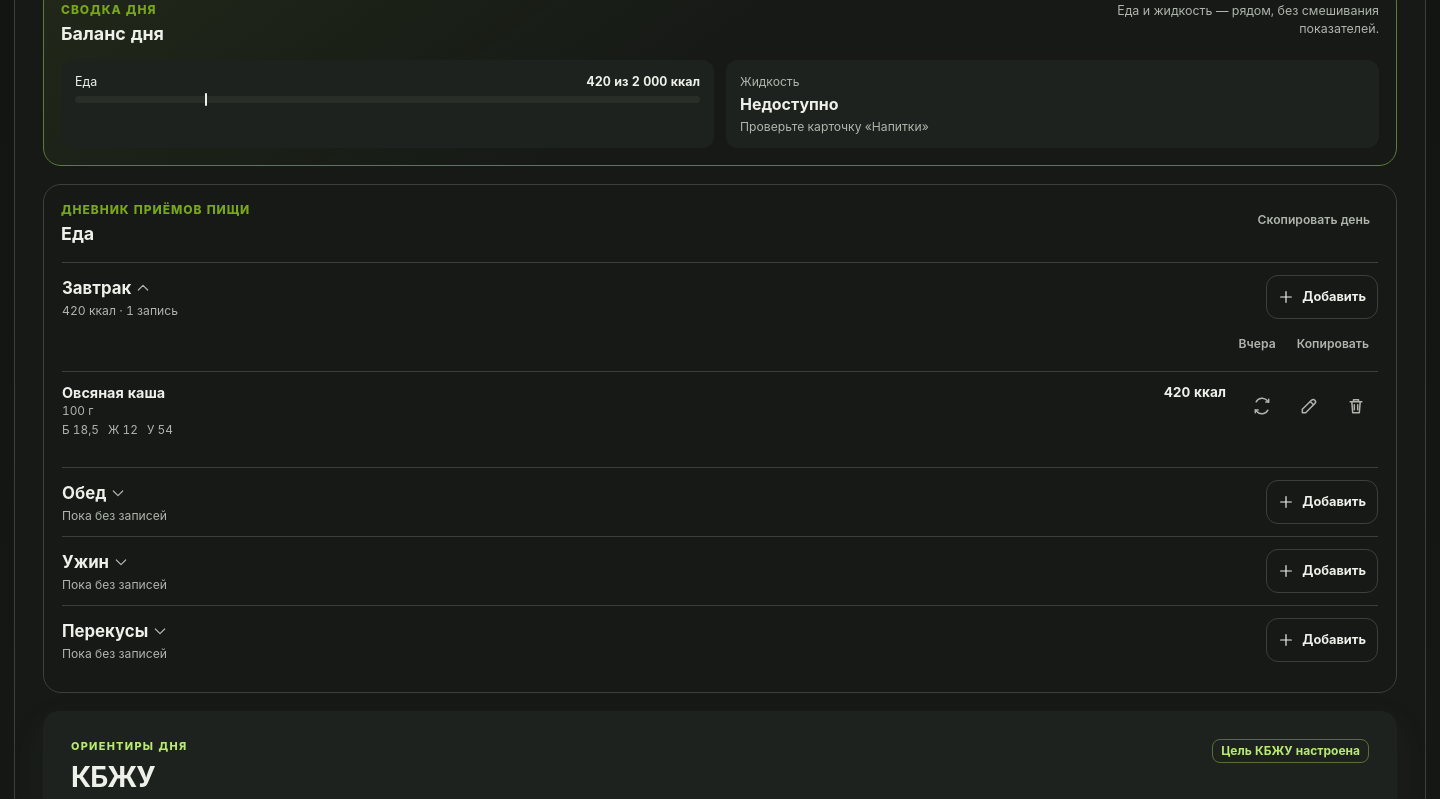
Test case: NutritionDiary › keeps an unsaved entry edit when another product is added to the meal
(page scrolled)
Check: the text "Овсяная каша" is shown, box [62,384,165,401]
Click the button named "Изменить Овсяная каша": (1309, 406) [1287,384,1331,428]
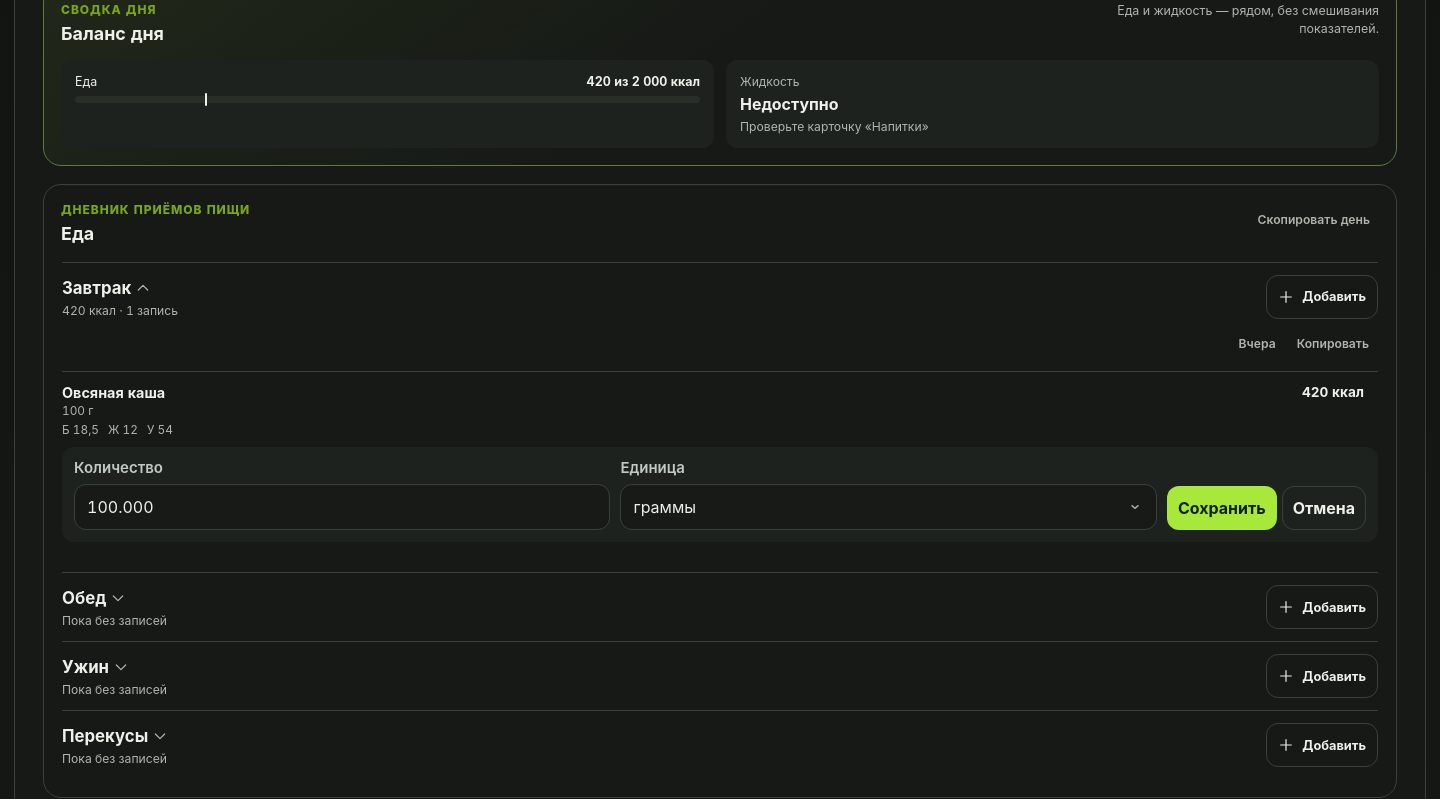
Replace the text in the number field labelled "Количество" with "175": (342, 507) [74,484,610,530]
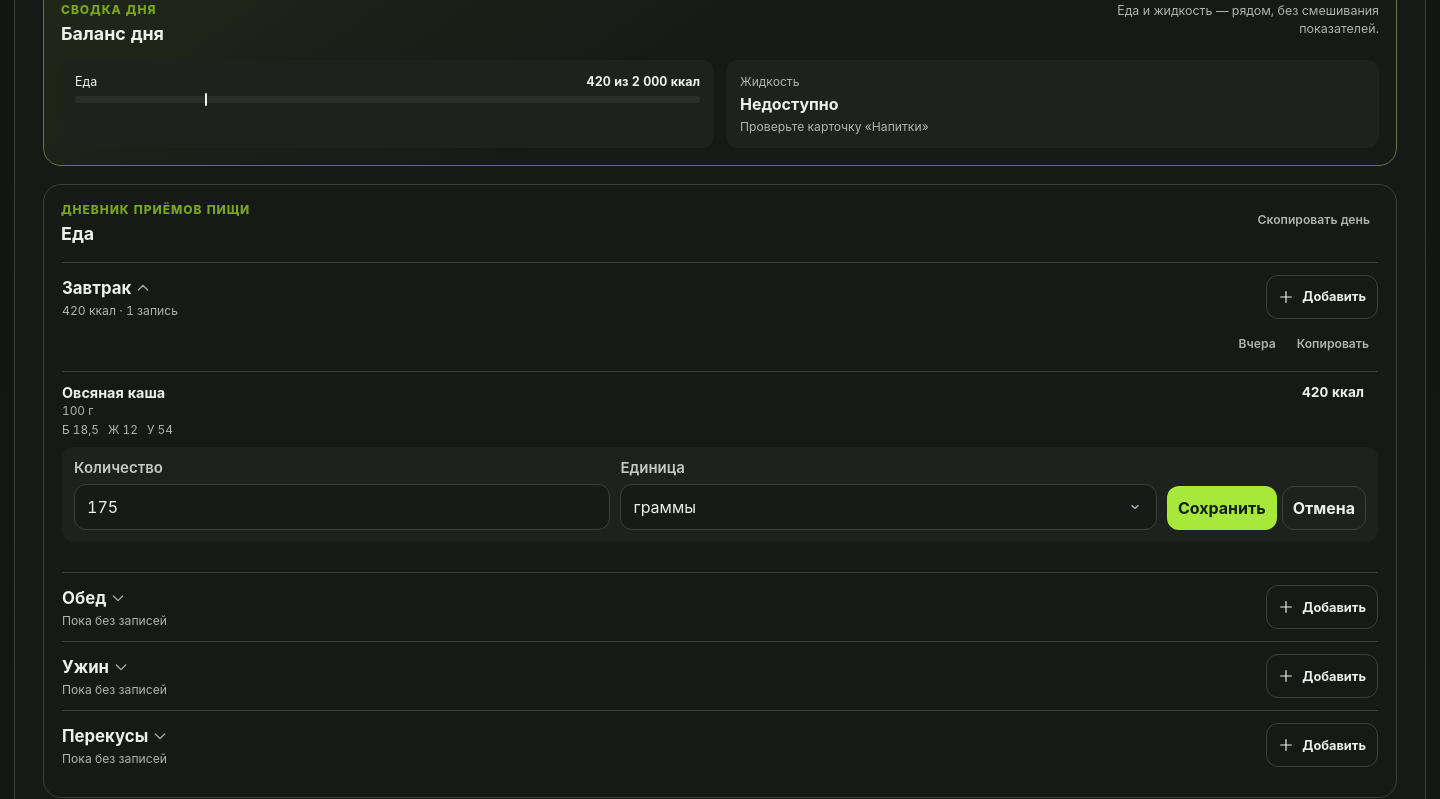
Click the button "Добавить" in the row of "420 ккал · 1 запись": (1322, 297) [1266,275,1378,319]
(page scrolled)
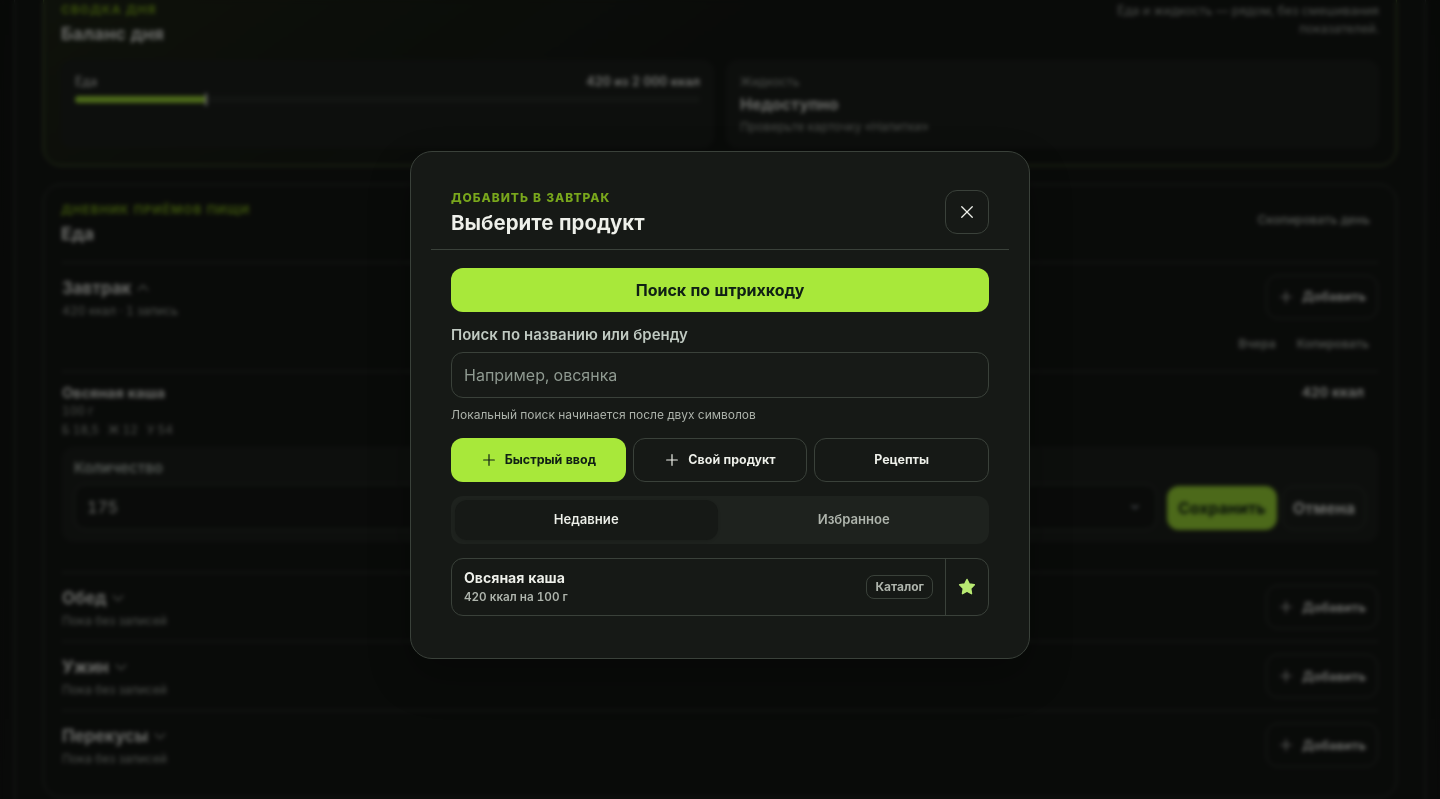
Click the button with aria-label "Добавить Овсяная каша": (514, 577) [452,559,945,615]
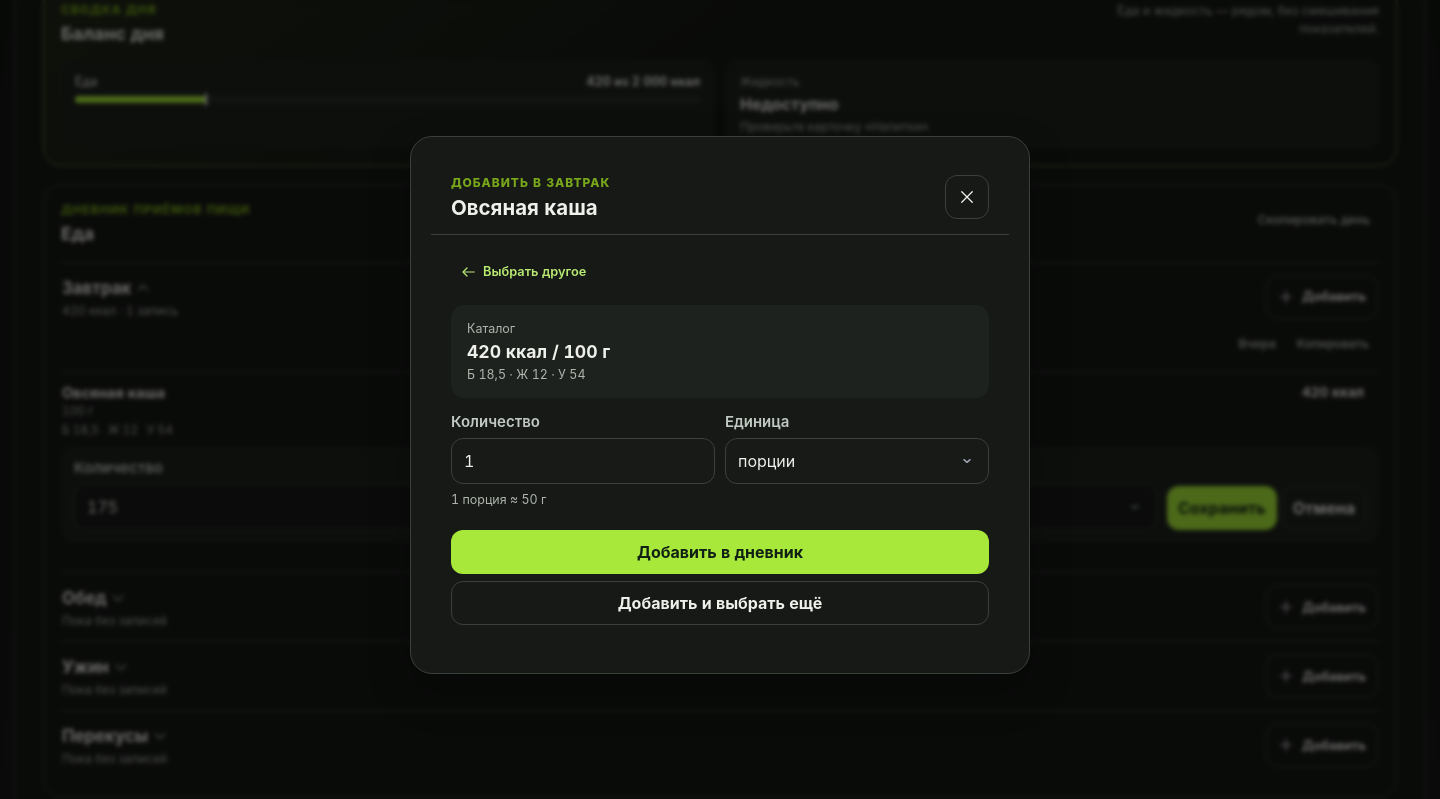
Click the button "Добавить в дневник": (720, 552) [451,530,989,574]
(page scrolled)
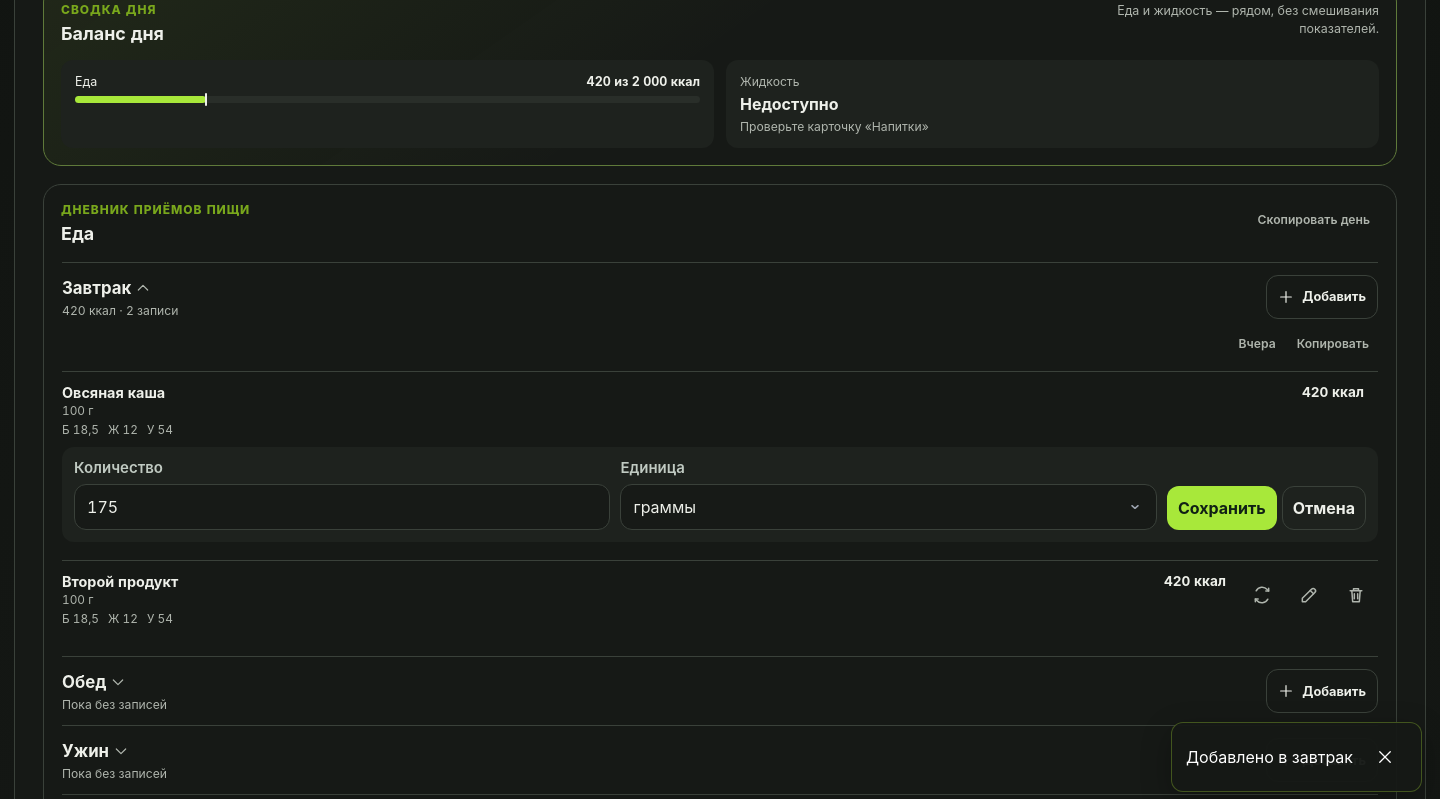
Check: the button "Сохранить" is shown, box [1167,486,1277,530]
Check: the text "Второй продукт" is shown, box [62,573,178,590]
